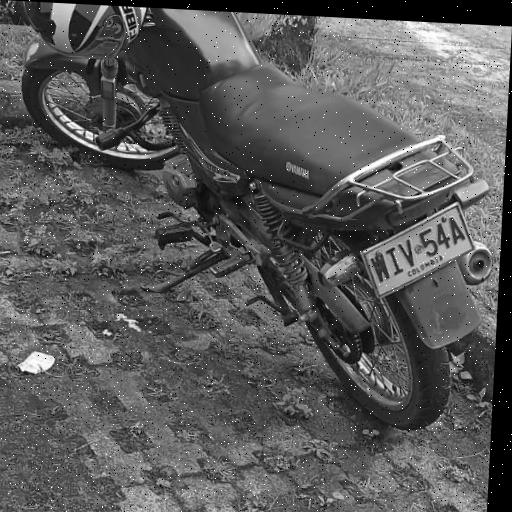placa: (365, 205, 474, 301)
